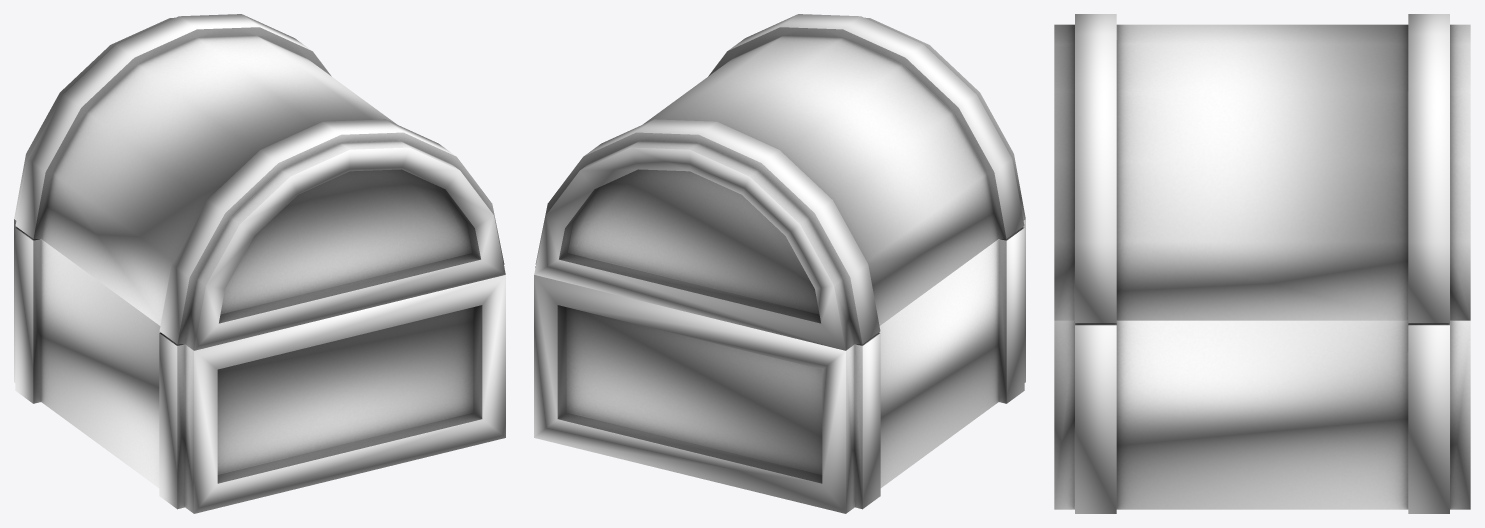
Rendered from Chest.dae.
The picture shows the model from 3 angles, left to right: view 1: azimuth 30°, elevation 25°; view 2: azimuth 150°, elevation 25°; view 3: azimuth 270°, elevation 25°; orthographic projection. The views are drawn at different scales.
Visible parts, largest first — view 1: ChestTop, ChestBottom; view 2: ChestTop, ChestBottom; view 3: ChestTop, ChestBottom.
Part boxes in pixels (x1,y1,x2,y2): ChestTop: (14, 14, 505, 350); ChestBottom: (14, 219, 505, 513); ChestTop: (534, 14, 1025, 350); ChestBottom: (534, 219, 1025, 513); ChestTop: (1054, 14, 1470, 323); ChestBottom: (1054, 320, 1470, 513).
Size of the model in its own units: 2.1 by 2 by 2.05.
Materials: 2 (2 with a texture image).
